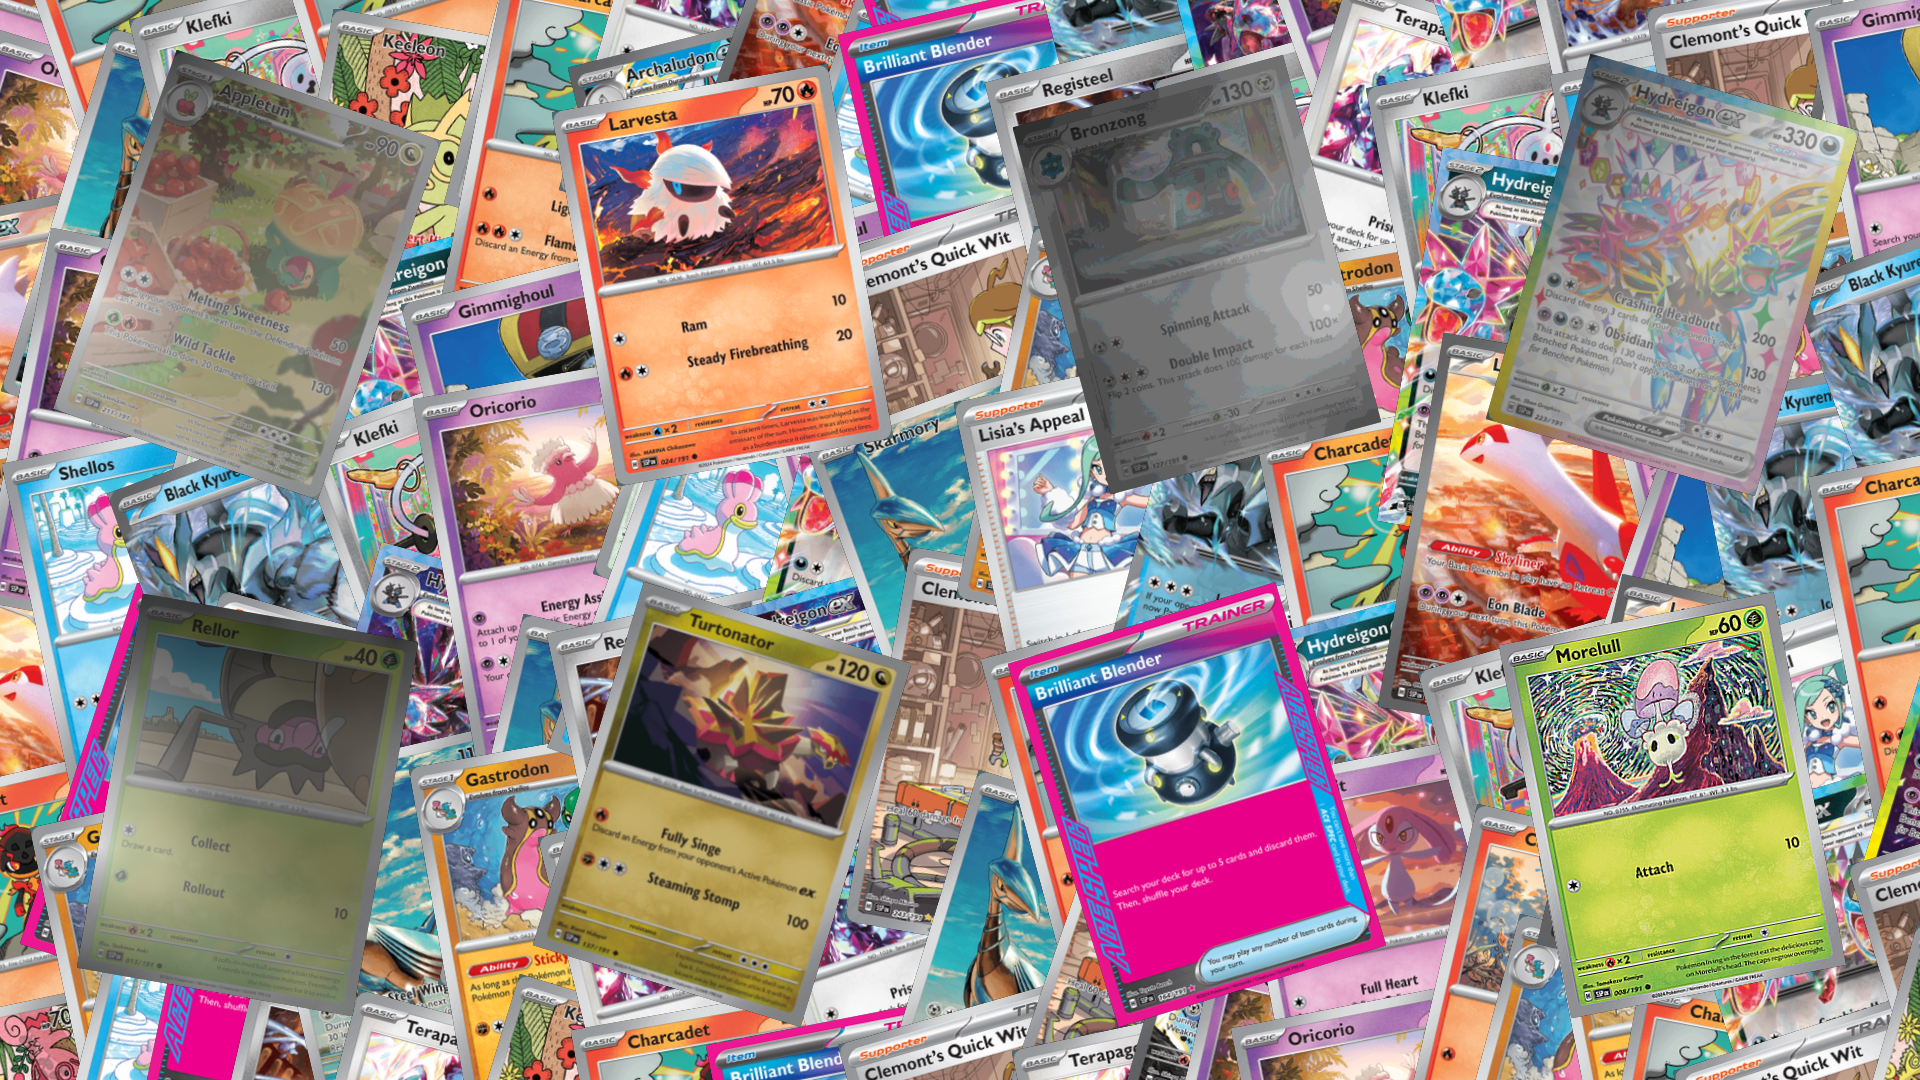Appletun: (51, 49, 440, 500)
Brilliant_Blender: (1007, 582, 1386, 1027)
Bronzong: (1011, 54, 1381, 495)
Hydreigon_ex: (1485, 53, 1859, 496)
Larvesta: (551, 63, 893, 487)
Morelull: (1498, 591, 1846, 1018)
Rellor: (76, 593, 418, 1015)
Turtonator: (531, 582, 911, 1027)
